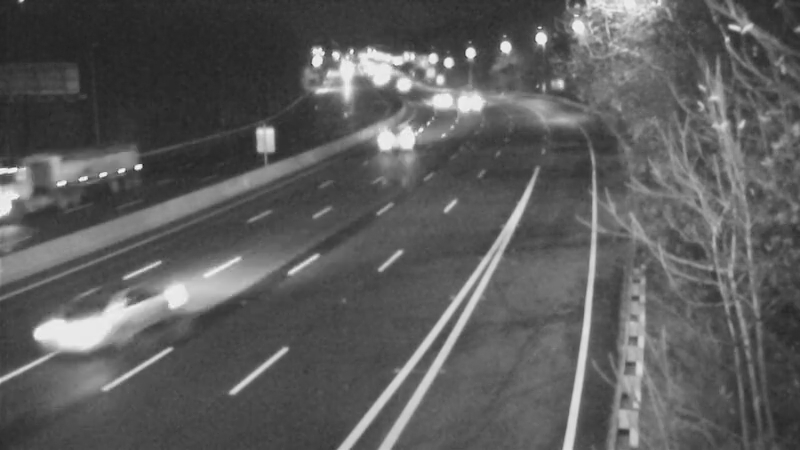vehicle: (15, 277, 125, 387), (20, 143, 100, 223), (375, 57, 425, 107), (414, 70, 464, 120), (441, 75, 491, 125), (374, 109, 424, 159)
